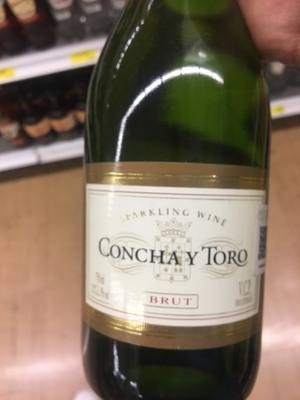brut: (76, 12, 281, 400)
